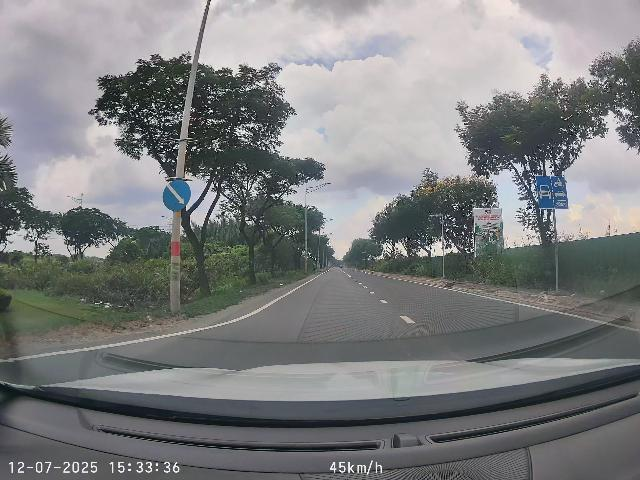302a-huong-phai-di-vong-chuong-ngai-vat-1: (162, 180, 191, 211)
